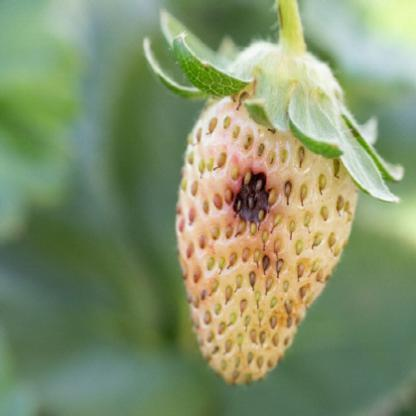Strawberry_Anthracnose_Fruit_Rot: (219, 154, 292, 240)
